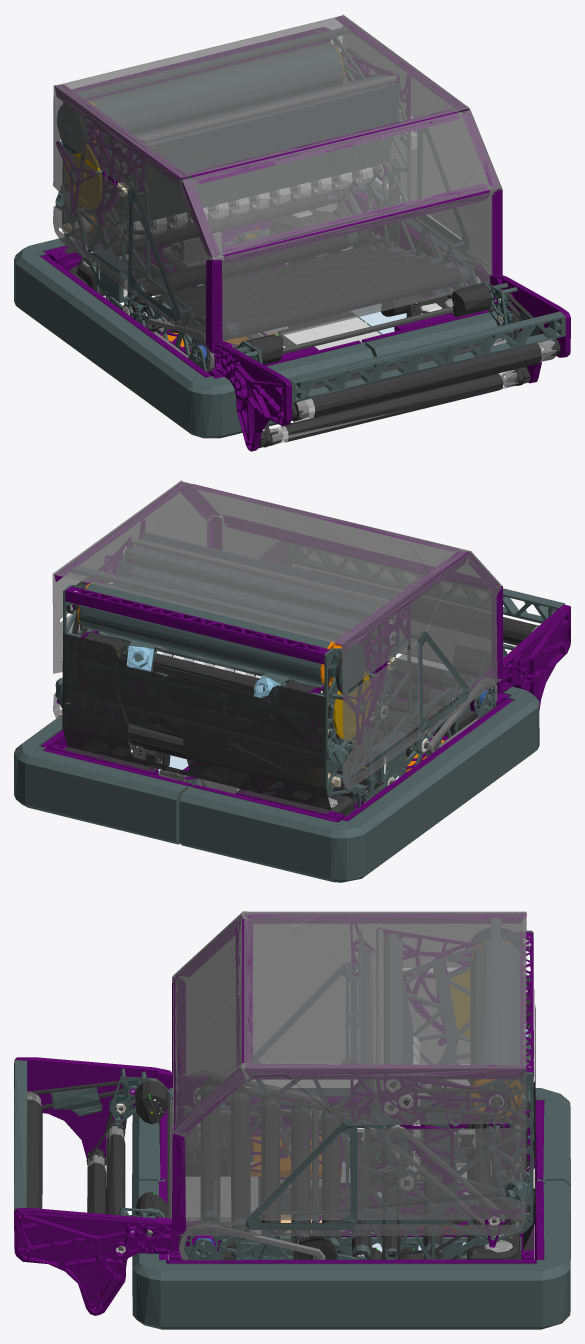
3 views of the same model, one above another, from view 1: azimuth 30°, elevation 25°; view 2: azimuth 150°, elevation 25°; view 3: azimuth 270°, elevation 25° (orthographic). The views are drawn at different scales.
Parts seen in each view (by area): view 1: c3_mesh, c0_mesh, c2_mesh, c1_mesh; view 2: c0_mesh, c3_mesh, c1_mesh, c2_mesh; view 3: c0_mesh, c3_mesh, c2_mesh, c1_mesh.
Part boxes in pixels (box(x1,y1,x2,y2)): c3_mesh: box(53, 14, 502, 353); c0_mesh: box(14, 27, 514, 438); c2_mesh: box(191, 261, 570, 451); c1_mesh: box(85, 48, 401, 226); c0_mesh: box(14, 519, 539, 882); c3_mesh: box(52, 480, 502, 789); c1_mesh: box(66, 537, 399, 728); c2_mesh: box(396, 588, 570, 715); c0_mesh: box(132, 919, 570, 1329); c3_mesh: box(172, 911, 526, 1236); c2_mesh: box(14, 1057, 227, 1315); c1_mesh: box(376, 928, 510, 1190).
Bounding box in the file's own units: 0.848 × 0.5568 × 1.06.
